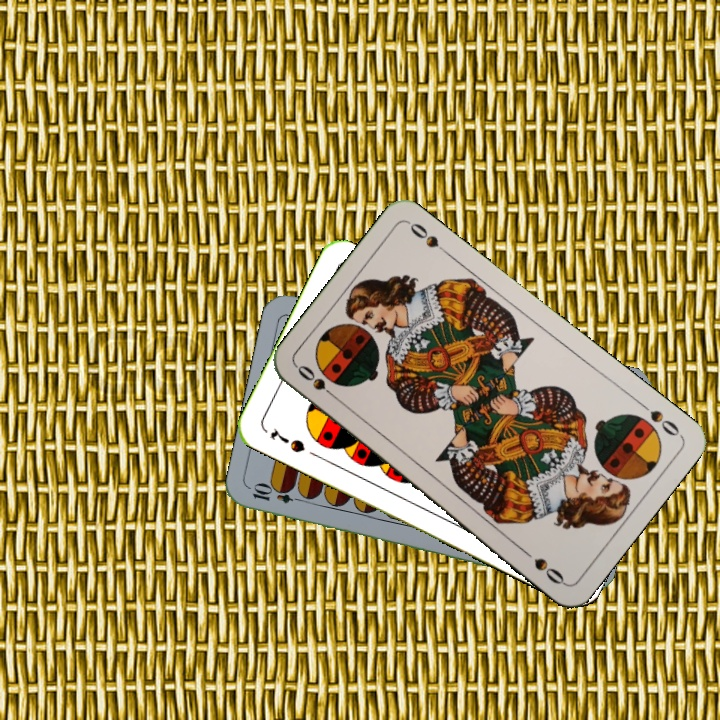E10: (248, 482, 308, 507)
S7: (266, 423, 308, 456)
SO: (293, 360, 343, 404), (634, 397, 683, 439)
